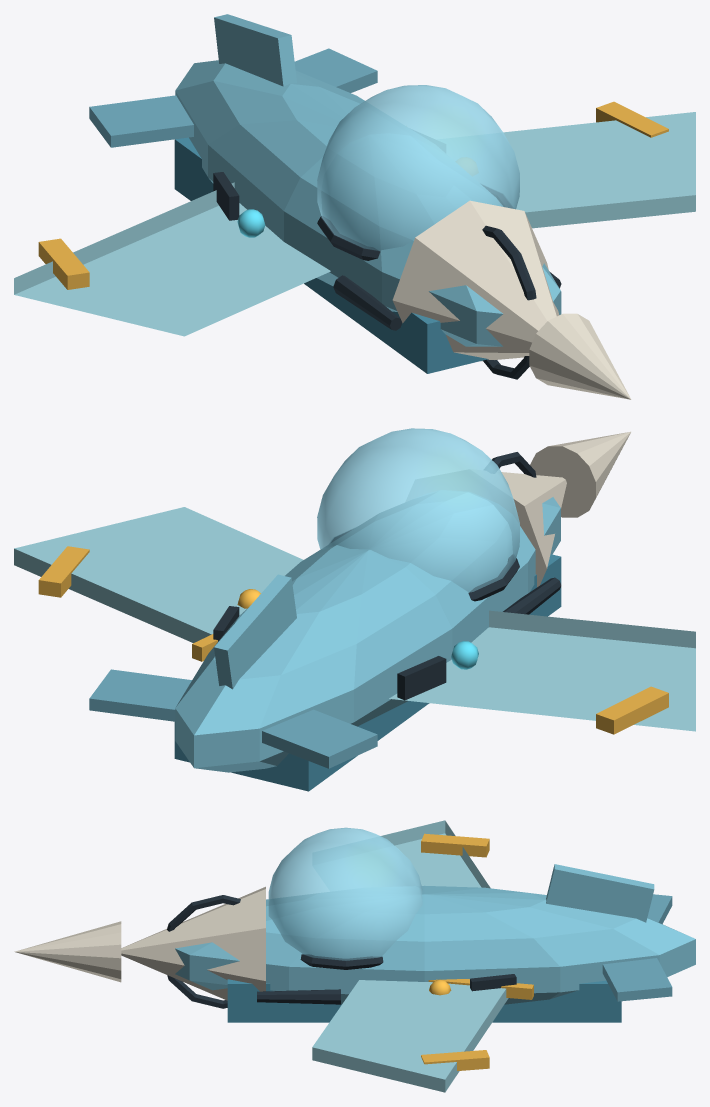
Rendered from scoutAircraft.glb.
3 renders of one model, top to bottom at view 1: azimuth 30°, elevation 25°; view 2: azimuth 150°, elevation 25°; view 3: azimuth 270°, elevation 25°, orthographic. The views are drawn at different scales.
Parts seen in each view (by area): view 1: n1, triple-gate-scout-canopy, n12, n16, n5, n3, n27, n24, n20, n22, n7, n14 (+5 smaller); view 2: n1, triple-gate-scout-canopy, n12, n16, n24, n27, n20, n3, n22, n5, n14, n37 (+4 smaller); view 3: n1, triple-gate-scout-canopy, n16, n5, n3, n24, n27, n12, n22, n14, n7, n32 (+5 smaller).
Boxes of the visible parts, <box> form: n1: <box>175,60,560,346</box>; triple-gate-scout-canopy: <box>317,85,519,250</box>; n12: <box>14,182,330,336</box>; n16: <box>503,112,695,228</box>; n5: <box>392,200,558,361</box>; n3: <box>174,137,561,373</box>; n27: <box>529,313,631,399</box>; n24: <box>214,14,296,86</box>; n20: <box>89,95,193,147</box>; n22: <box>294,48,377,92</box>; n7: <box>482,225,536,379</box>; n14: <box>38,238,89,289</box>; n1: <box>175,491,560,772</box>; triple-gate-scout-canopy: <box>317,428,519,592</box>; n12: <box>389,610,695,731</box>; n16: <box>14,507,303,642</box>; n24: <box>214,574,296,689</box>; n27: <box>530,431,630,517</box>; n20: <box>262,709,377,768</box>; n3: <box>174,554,561,791</box>; n22: <box>89,669,191,721</box>; n5: <box>501,472,566,587</box>; n14: <box>596,686,668,734</box>; n37: <box>397,656,446,700</box>; n1: <box>175,885,695,1004</box>; triple-gate-scout-canopy: <box>268,827,422,960</box>; n16: <box>312,980,508,1092</box>; n5: <box>121,886,265,1000</box>; n3: <box>227,979,621,1022</box>; n24: <box>546,864,654,922</box>; n27: <box>14,921,121,982</box>; n12: <box>380,820,490,888</box>; n22: <box>602,958,672,1001</box>; n14: <box>421,833,489,857</box>; n7: <box>167,895,240,1008</box>; n32: <box>257,989,340,1004</box>.
Bounding box in the file's own units: 6 × 1.94 × 6.67.
